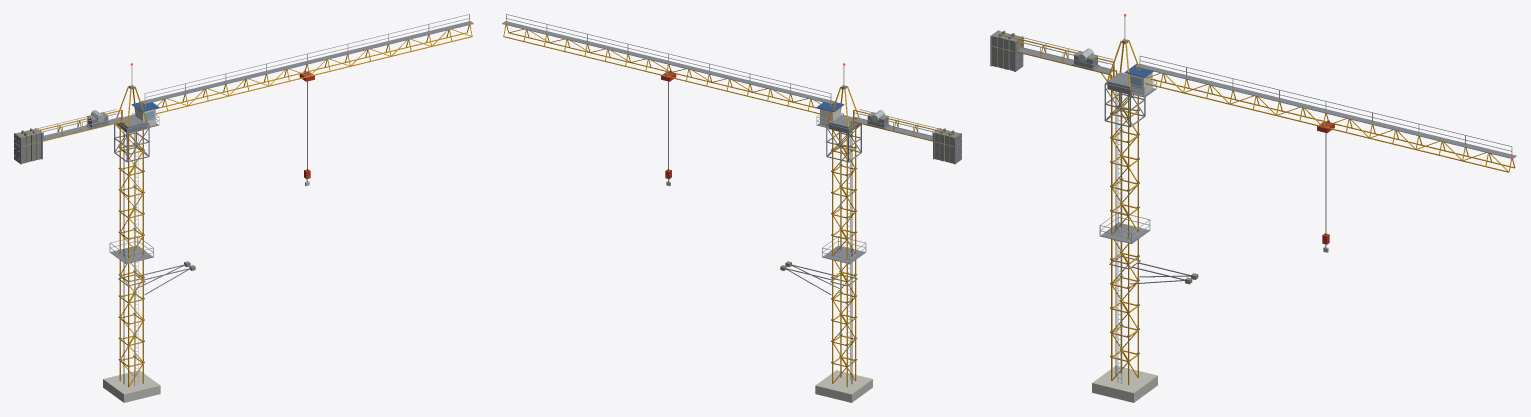
Rendered from tower_crane.glb.
3 views of the same model, side by side, from view 1: azimuth 30°, elevation 25°; view 2: azimuth 150°, elevation 25°; view 3: azimuth 330°, elevation 25° (orthographic). The views are drawn at different scales.
Parts seen in each view (by area): view 1: TowerCrane_Slew, TowerCrane; view 2: TowerCrane_Slew, TowerCrane; view 3: TowerCrane_Slew, TowerCrane.
Boxes of the visible parts, bbox=[...] form: TowerCrane_Slew: bbox=[14, 14, 473, 164]; TowerCrane: bbox=[103, 122, 195, 402]; TowerCrane_Slew: bbox=[502, 14, 961, 164]; TowerCrane: bbox=[780, 122, 872, 402]; TowerCrane_Slew: bbox=[990, 14, 1516, 172]; TowerCrane: bbox=[1092, 73, 1198, 402].
Size of the model in its own units: 56.13 by 38.48 by 4.5.
